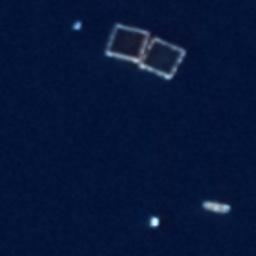square_solid: (135, 34, 189, 85), (101, 20, 154, 66)
